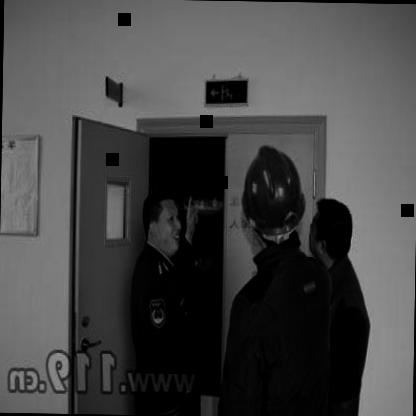helmet: (236, 136, 308, 274)
